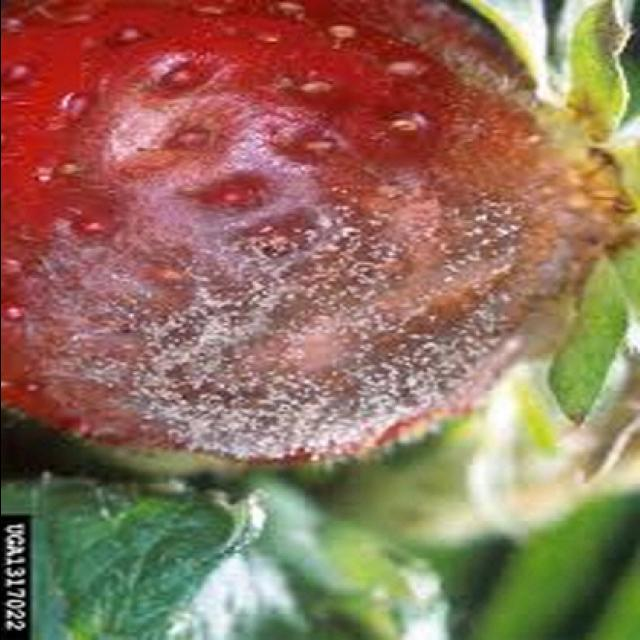Gray Mold: (2, 0, 598, 468)
